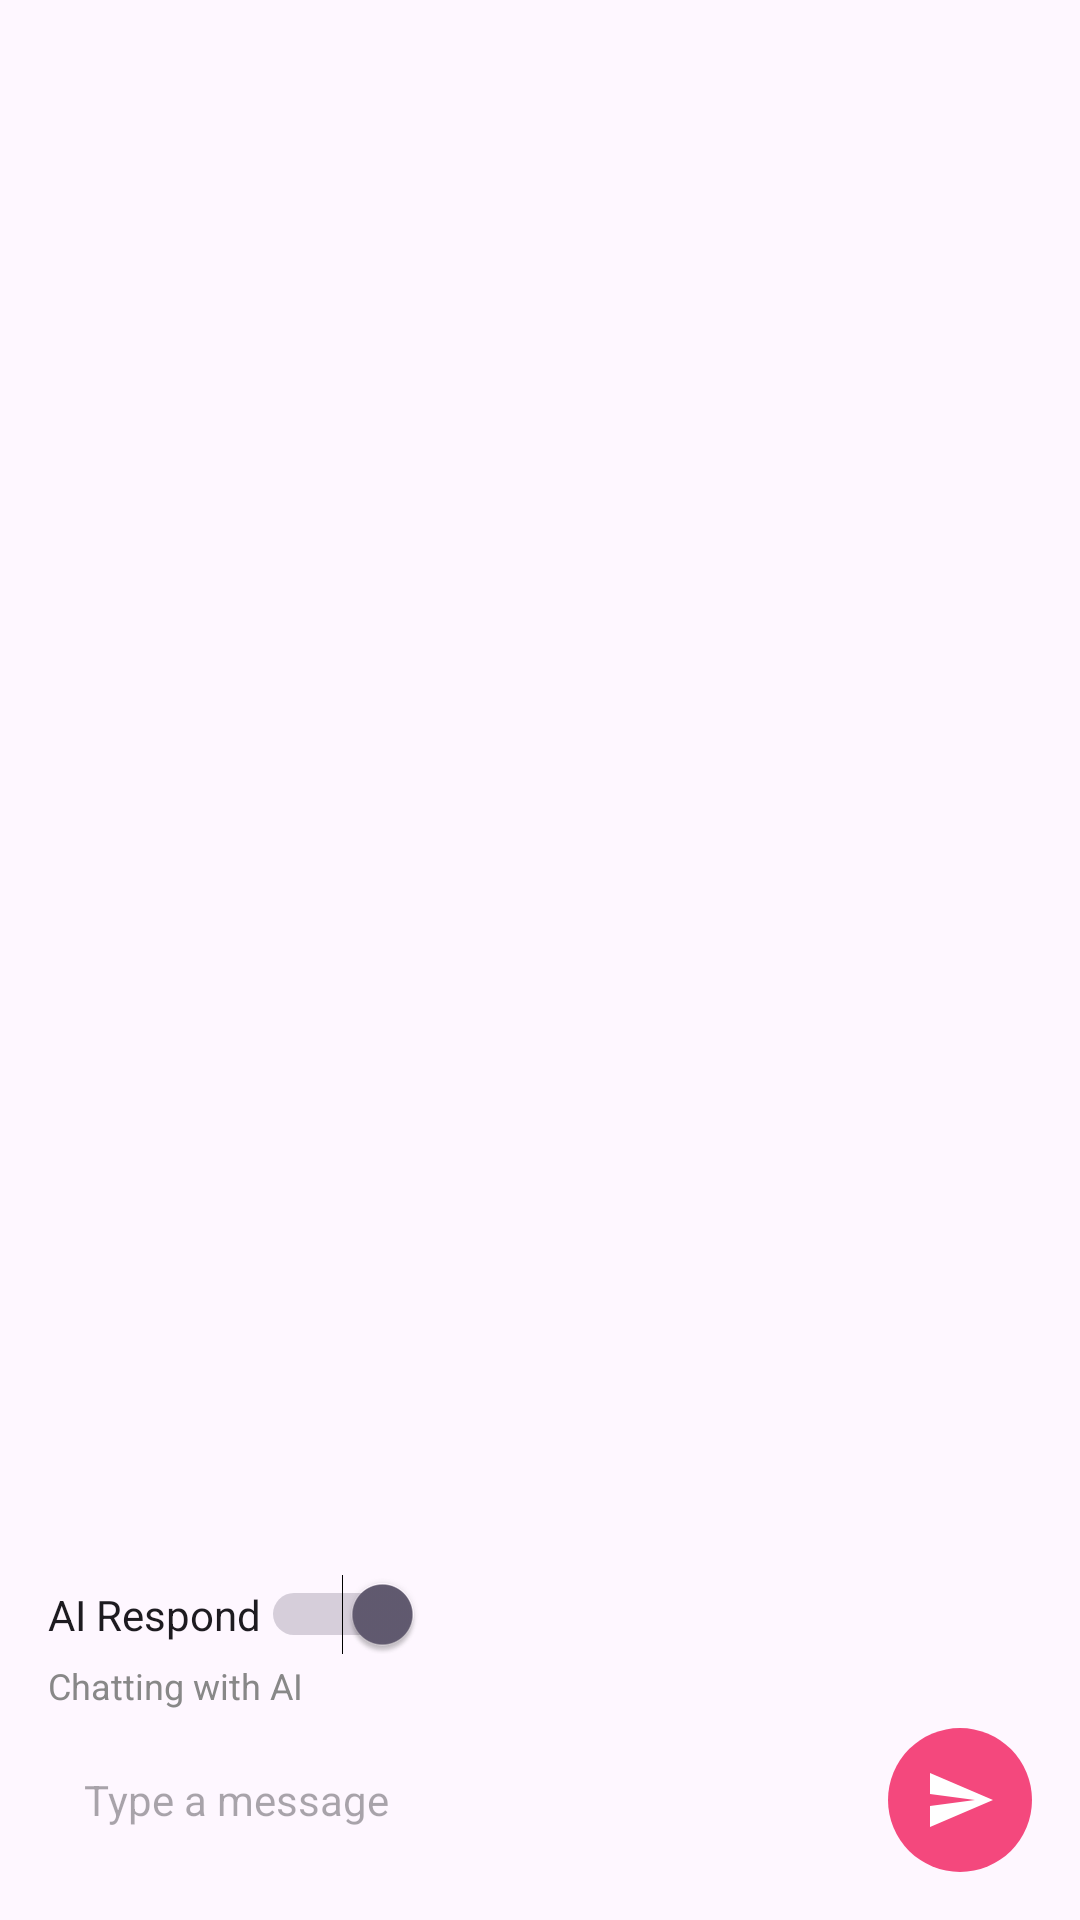

Locate icon controls on the screen. Image size 1080 x 1920, boxes as (x1, y1, x2, y2).
Send Message: (888, 1728, 1032, 1872)
